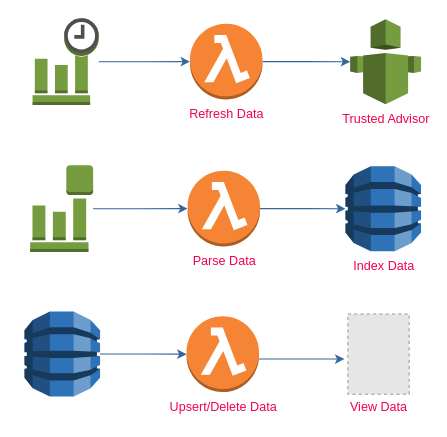
This 447x437 diagram has some shape labels left out. Grey dashed boxes stand in for pictures. The centre of each missing label's shape, as x and y in pixels:
"Patteren Event" goes at [61,208].
"Scheduled Event" goes at [65,61].
"Stream Data" goes at [61,353].
